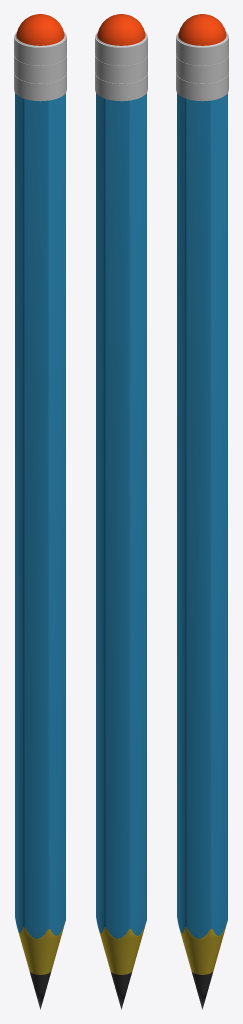
Rendered from Pencil-2.fbx.
The picture shows the model from 3 angles, left to right: view 1: azimuth 90°, elevation 25°; view 2: azimuth 210°, elevation 25°; view 3: azimuth 270°, elevation 25°; orthographic projection.
Visible parts, largest first — view 1: Pencil, Cylinder, Capsule; view 2: Pencil, Cylinder, Capsule; view 3: Pencil, Cylinder, Capsule.
Part boxes in pixels (x1,y1,x2,y2): Pencil: (15,93,65,1009); Cylinder: (14,32,66,101); Capsule: (16,14,64,45); Pencil: (96,93,146,1009); Cylinder: (95,32,147,101); Capsule: (97,14,145,45); Pencil: (177,93,227,1009); Cylinder: (176,32,228,101); Capsule: (178,14,226,45).
Bounding box in the file's own units: 100 × 2091 × 100.
